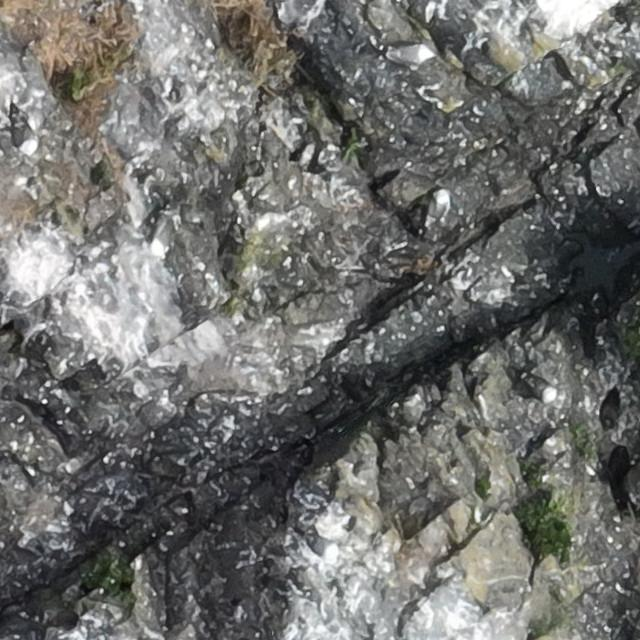umineko: (10, 107, 38, 154), (303, 531, 338, 561), (388, 44, 433, 64), (525, 375, 556, 399), (431, 190, 448, 221)
